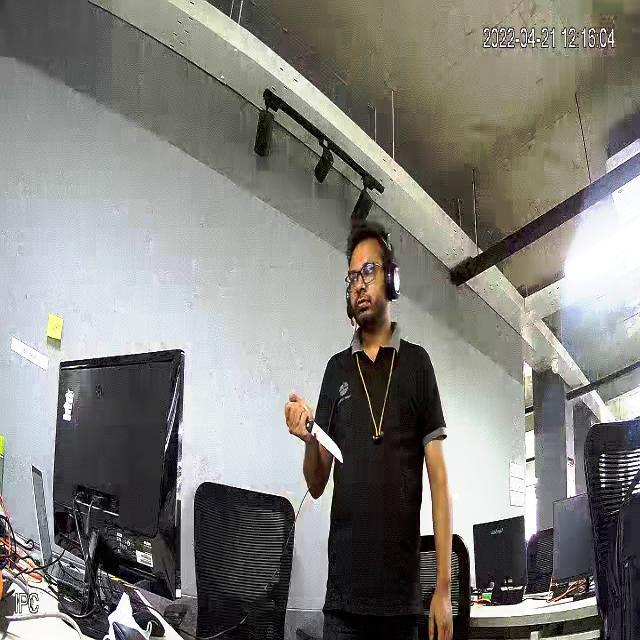Knife: (280, 384, 357, 464)
